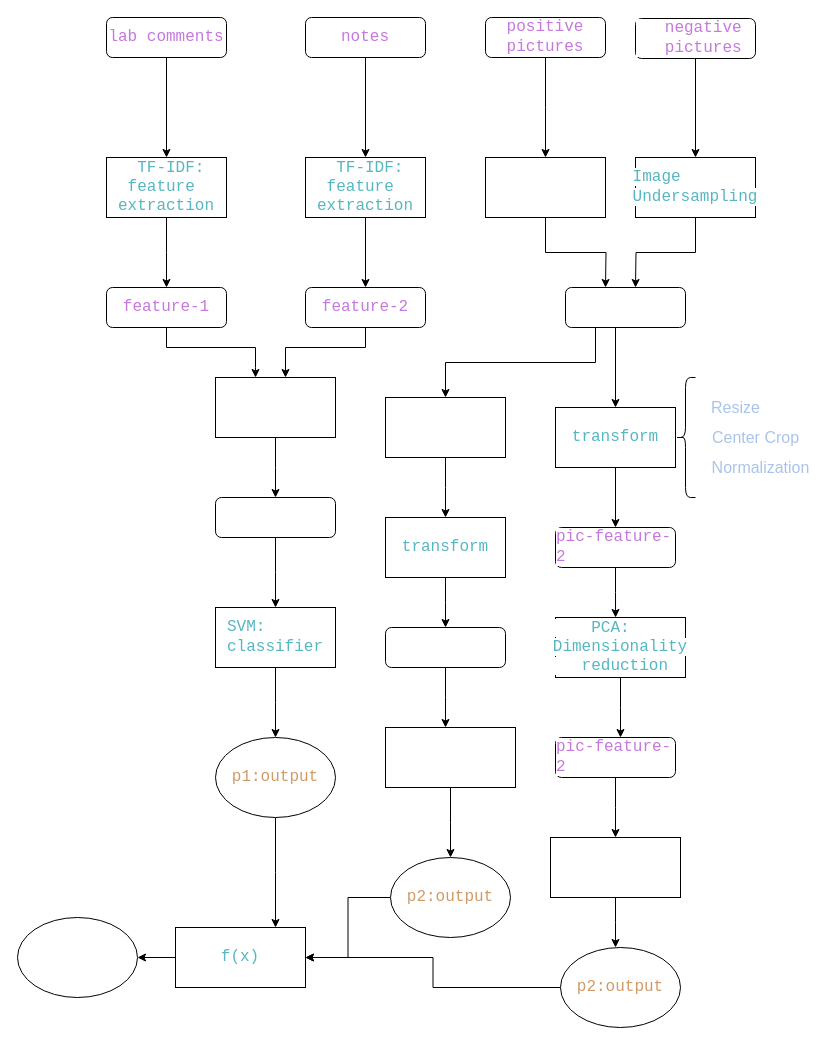
Some shapes in this 833 by 1045 pixel diagram are drawn without their labels. The shapes that lost their labels are listed below. From the top down, each one's box as (x1, y1, x2, y2) in pixels, then its label:
(484, 156, 606, 218): Image augmentation
(564, 286, 686, 328): picture data
(214, 376, 336, 438): Horizontal Stack
(384, 396, 506, 458): Manually label pictures
(214, 496, 336, 538): feature
(384, 626, 506, 668): pic-feature-1
(384, 726, 516, 788): yolov3: Object Detection
(550, 836, 680, 898): Decision Tree: classifier
(16, 916, 138, 998): final socre
